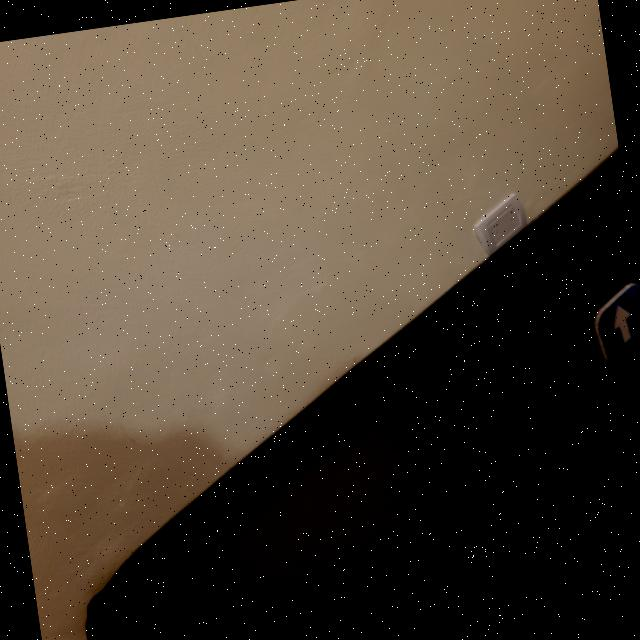one_way: (587, 281, 640, 363)
